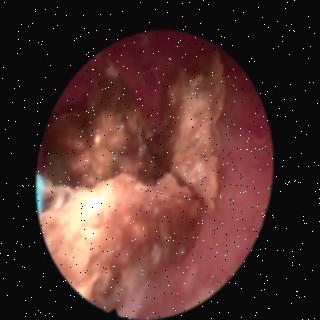stone: (45, 46, 225, 303)
tissue: (122, 61, 270, 310)
